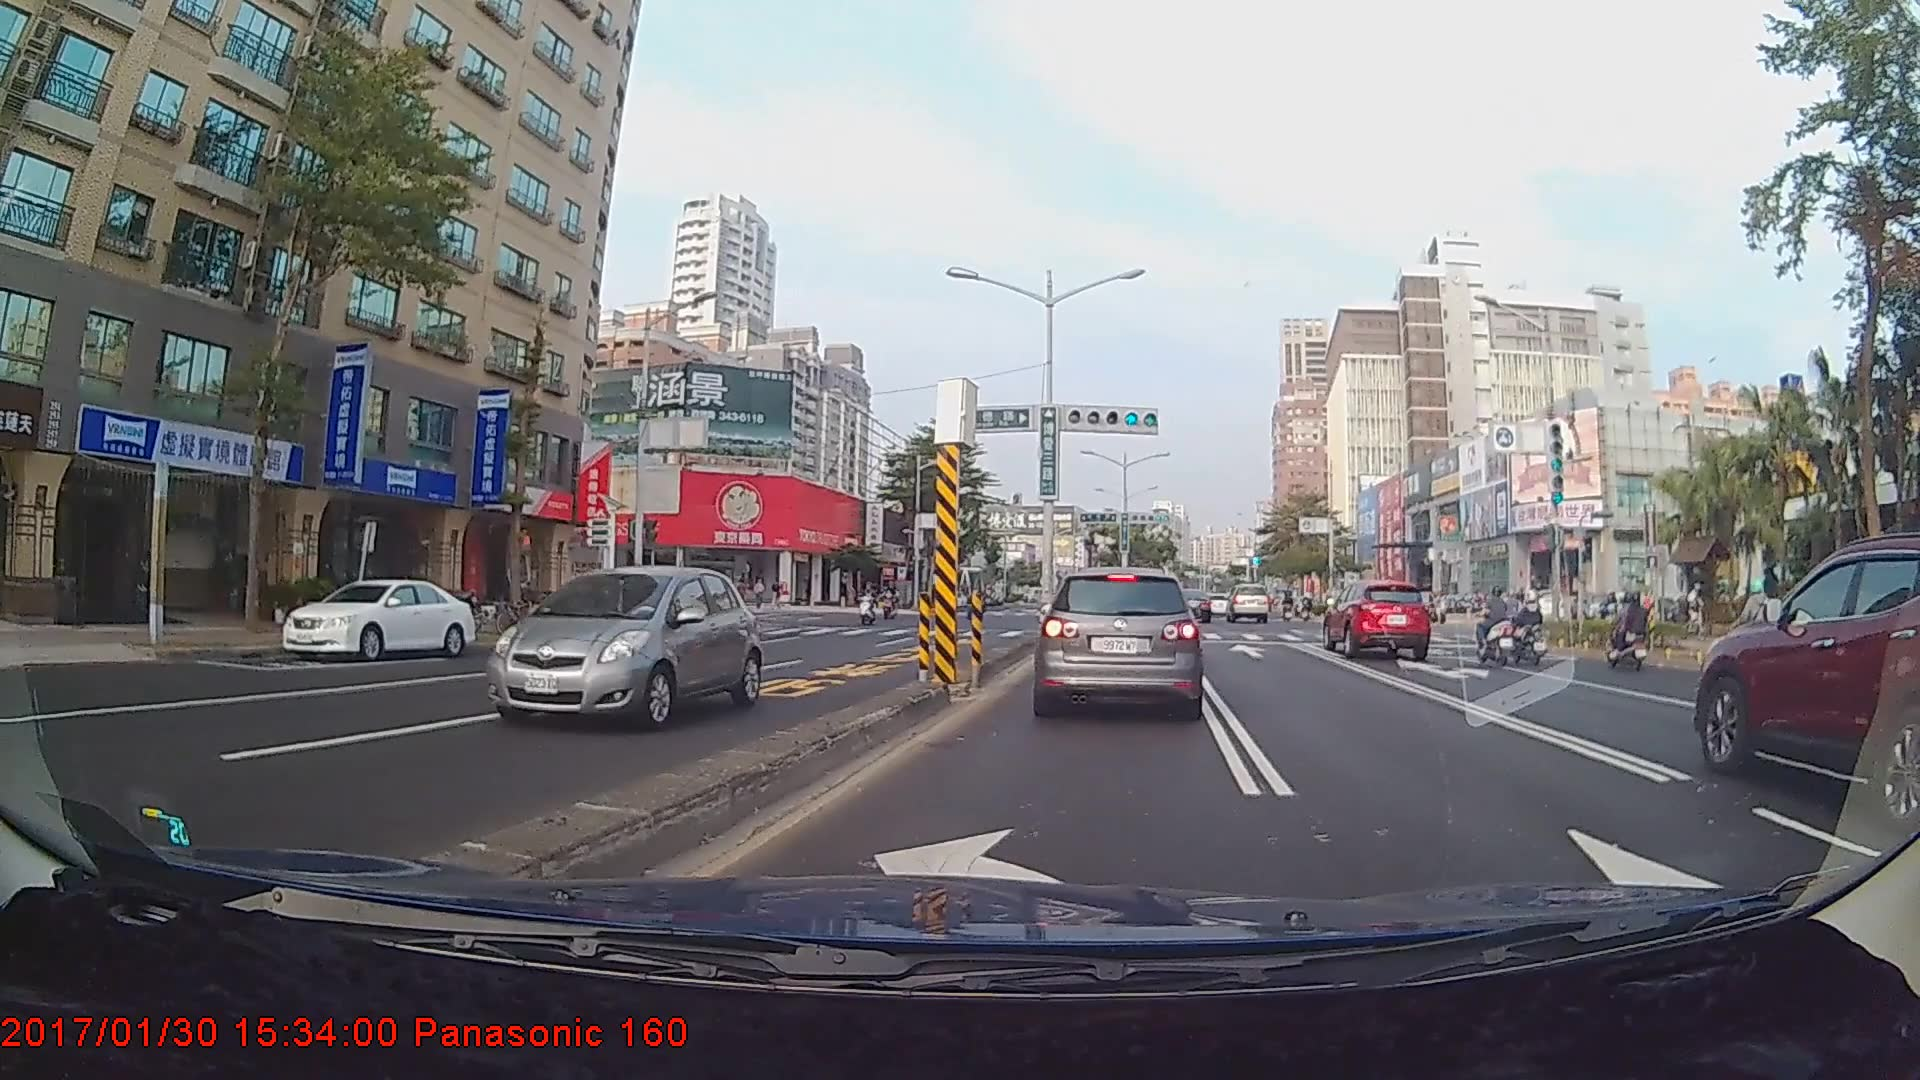rider: (1466, 584, 1522, 666), (1599, 590, 1653, 671), (1502, 585, 1553, 671)
vehicle: (1691, 533, 1917, 832), (487, 565, 765, 732), (1036, 567, 1201, 716), (280, 572, 475, 657), (1320, 578, 1434, 658), (1225, 582, 1270, 624), (1169, 588, 1210, 622)
